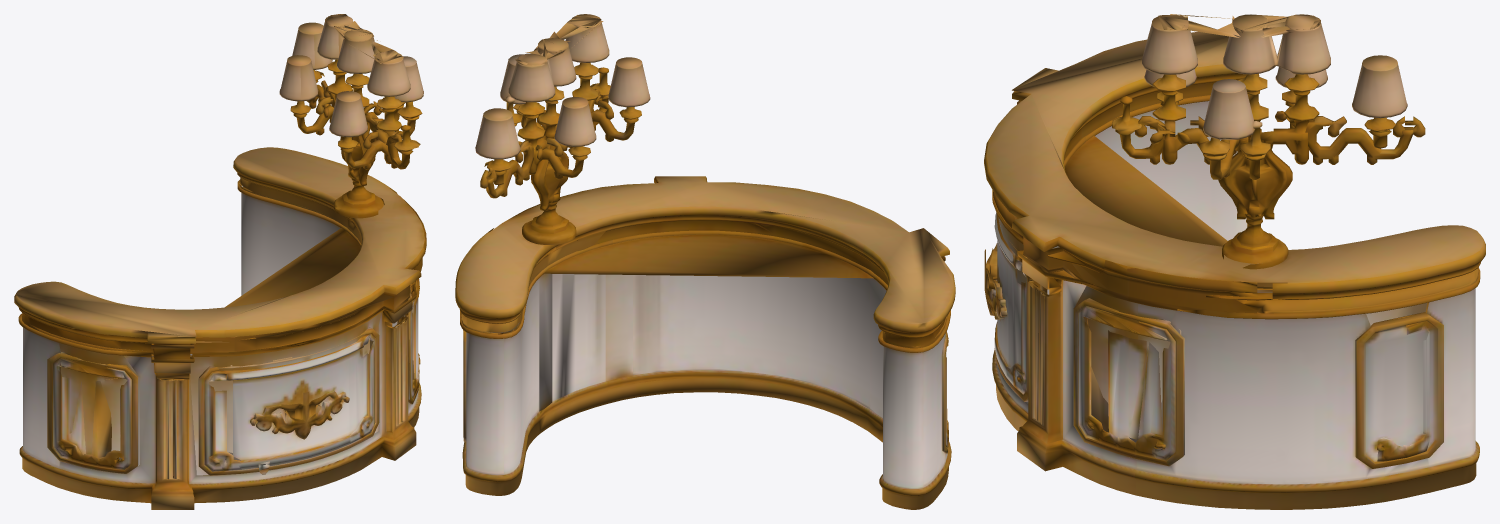
File: fancy_reception_desk_58fde71d_v3.glb
The picture shows the model from 3 angles, left to right: view 1: azimuth 30°, elevation 25°; view 2: azimuth 150°, elevation 25°; view 3: azimuth 270°, elevation 25°; orthographic projection. The views are drawn at different scales.
Visible parts, largest first — view 1: material; view 2: material; view 3: material.
Boxes of the visible parts, left/top/right/bottom form: material: left=14, top=14, right=426, bottom=509; material: left=455, top=14, right=955, bottom=509; material: left=984, top=14, right=1485, bottom=509.
Bounding box in the file's own units: 1.9 × 1.58 × 1.55.
1 material, 1 textured.
